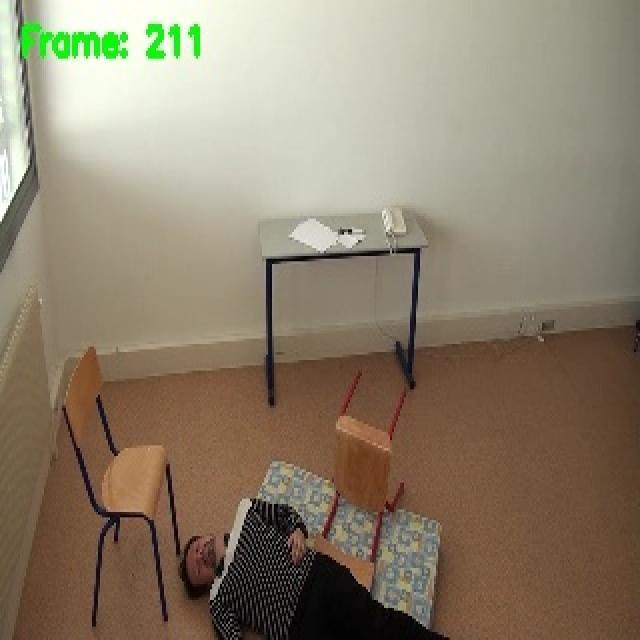fall: (182, 493, 452, 640)
